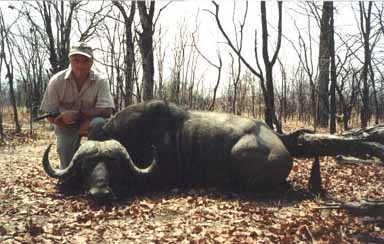buffalo: (40, 98, 294, 206)
